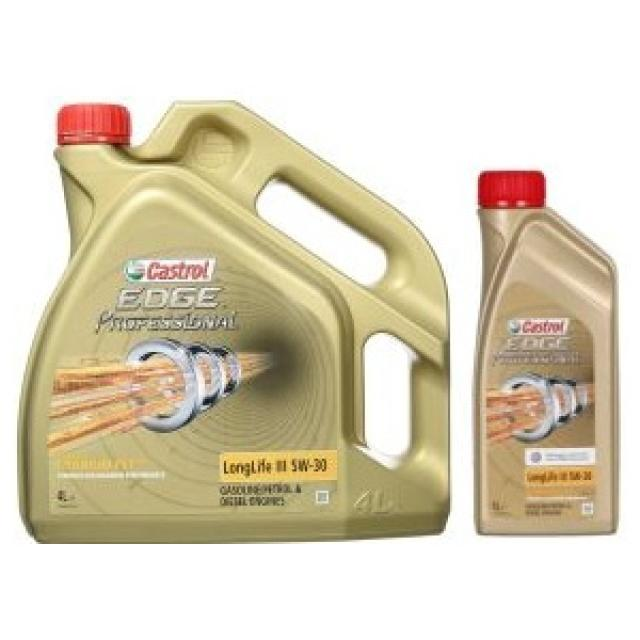motor_oil: (19, 86, 454, 545), (472, 164, 626, 544)
